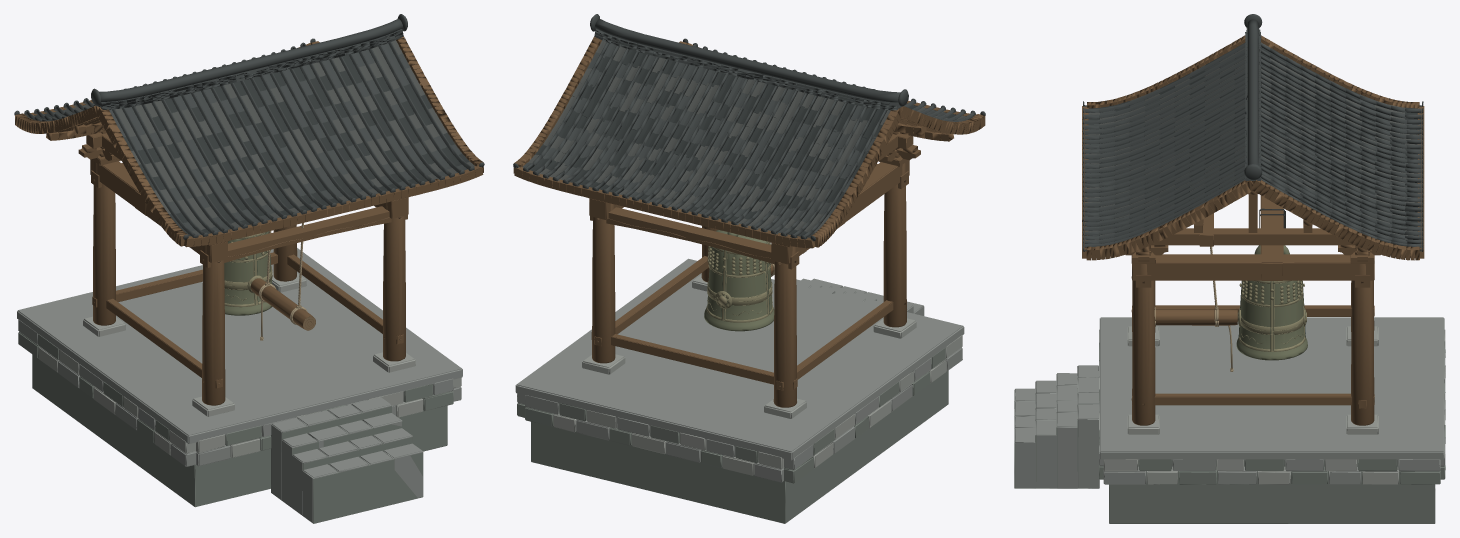
File: title-belfry.glb
3 renders of one model, left to right at view 1: azimuth 30°, elevation 25°; view 2: azimuth 150°, elevation 25°; view 3: azimuth 270°, elevation 25°, orthographic.
Parts seen in each view (by area): view 1: original_shoro_low_exposed_stone_base_and_front_entry_steps_ (×3), candidate9_regular_hongawara_tiles_mesh, candidate9_regular_hongawara_tiles, candidate9_common_axis_columns_and_girders, candidate9_ridge_bargeboards_and_eave_ends_mesh, candidate9_ridge_bargeboards_and_eave_ends, candidate9_seated_brackets_and_joinery_mesh, candidate9_parallel_rafters_gabled_roof_deck, bell_body, striker_log_timber_mesh, bell_cast_detail_mesh, candidate9_seated_tsuka_purlins_and_ridge; view 2: original_shoro_low_exposed_stone_base_and_front_entry_steps_ (×3), candidate9_regular_hongawara_tiles_mesh, candidate9_regular_hongawara_tiles, candidate9_common_axis_columns_and_girders, candidate9_ridge_bargeboards_and_eave_ends_mesh, candidate9_ridge_bargeboards_and_eave_ends, candidate9_seated_brackets_and_joinery_mesh, bell_body, candidate9_parallel_rafters_gabled_roof_deck, bell_cast_detail_mesh, candidate9_seated_tsuka_purlins_and_ridge; view 3: original_shoro_low_exposed_stone_base_and_front_entry_steps_ (×3), candidate9_regular_hongawara_tiles_mesh, candidate9_common_axis_columns_and_girders, candidate9_regular_hongawara_tiles, candidate9_ridge_bargeboards_and_eave_ends, bell_body, candidate9_ridge_bargeboards_and_eave_ends_mesh, bell_cast_detail_mesh, candidate9_seated_brackets_and_joinery_mesh, striker_log_timber_mesh, candidate9_parallel_rafters_gabled_roof_deck, candidate9_seated_tsuka_purlins_and_ridge.
Part boxes in pixels (x1,y1,x2,y2): original_shoro_low_exposed_stone_base_and_front_entry_steps_ (×3): (17, 248, 462, 523); candidate9_regular_hongawara_tiles_mesh: (26, 42, 471, 236); candidate9_regular_hongawara_tiles: (25, 40, 479, 237); candidate9_common_axis_columns_and_girders: (86, 132, 408, 405); candidate9_ridge_bargeboards_and_eave_ends_mesh: (14, 14, 484, 239); candidate9_ridge_bargeboards_and_eave_ends: (15, 36, 483, 246); candidate9_seated_brackets_and_joinery_mesh: (78, 144, 407, 267); candidate9_parallel_rafters_gabled_roof_deck: (23, 42, 483, 247); bell_body: (224, 231, 272, 315); striker_log_timber_mesh: (250, 278, 315, 330); bell_cast_detail_mesh: (224, 232, 272, 307); candidate9_seated_tsuka_purlins_and_ridge: (46, 122, 106, 140); original_shoro_low_exposed_stone_base_and_front_entry_steps_ (×3): (515, 258, 964, 523); candidate9_regular_hongawara_tiles_mesh: (518, 42, 974, 237); candidate9_regular_hongawara_tiles: (527, 40, 974, 238); candidate9_common_axis_columns_and_girders: (589, 133, 913, 407); candidate9_ridge_bargeboards_and_eave_ends_mesh: (513, 14, 985, 241); candidate9_ridge_bargeboards_and_eave_ends: (513, 36, 985, 247); candidate9_seated_brackets_and_joinery_mesh: (590, 145, 920, 269); bell_body: (704, 229, 774, 331); candidate9_parallel_rafters_gabled_roof_deck: (514, 43, 976, 248); bell_cast_detail_mesh: (706, 241, 773, 322); candidate9_seated_tsuka_purlins_and_ridge: (893, 123, 953, 141); original_shoro_low_exposed_stone_base_and_front_entry_steps_ (×3): (1014, 317, 1445, 523); candidate9_regular_hongawara_tiles_mesh: (1084, 43, 1421, 251); candidate9_common_axis_columns_and_girders: (1132, 195, 1374, 425); candidate9_regular_hongawara_tiles: (1084, 42, 1421, 251); candidate9_ridge_bargeboards_and_eave_ends: (1086, 35, 1419, 260); bell_body: (1236, 280, 1307, 360); candidate9_ridge_bargeboards_and_eave_ends_mesh: (1083, 14, 1423, 251); bell_cast_detail_mesh: (1237, 280, 1306, 351); candidate9_seated_brackets_and_joinery_mesh: (1125, 245, 1381, 287); striker_log_timber_mesh: (1155, 309, 1237, 325); candidate9_parallel_rafters_gabled_roof_deck: (1082, 106, 1424, 258); candidate9_seated_tsuka_purlins_and_ridge: (1139, 191, 1367, 252).
Bounding box in the file's own units: 7.56 × 8.65 × 9.06.
